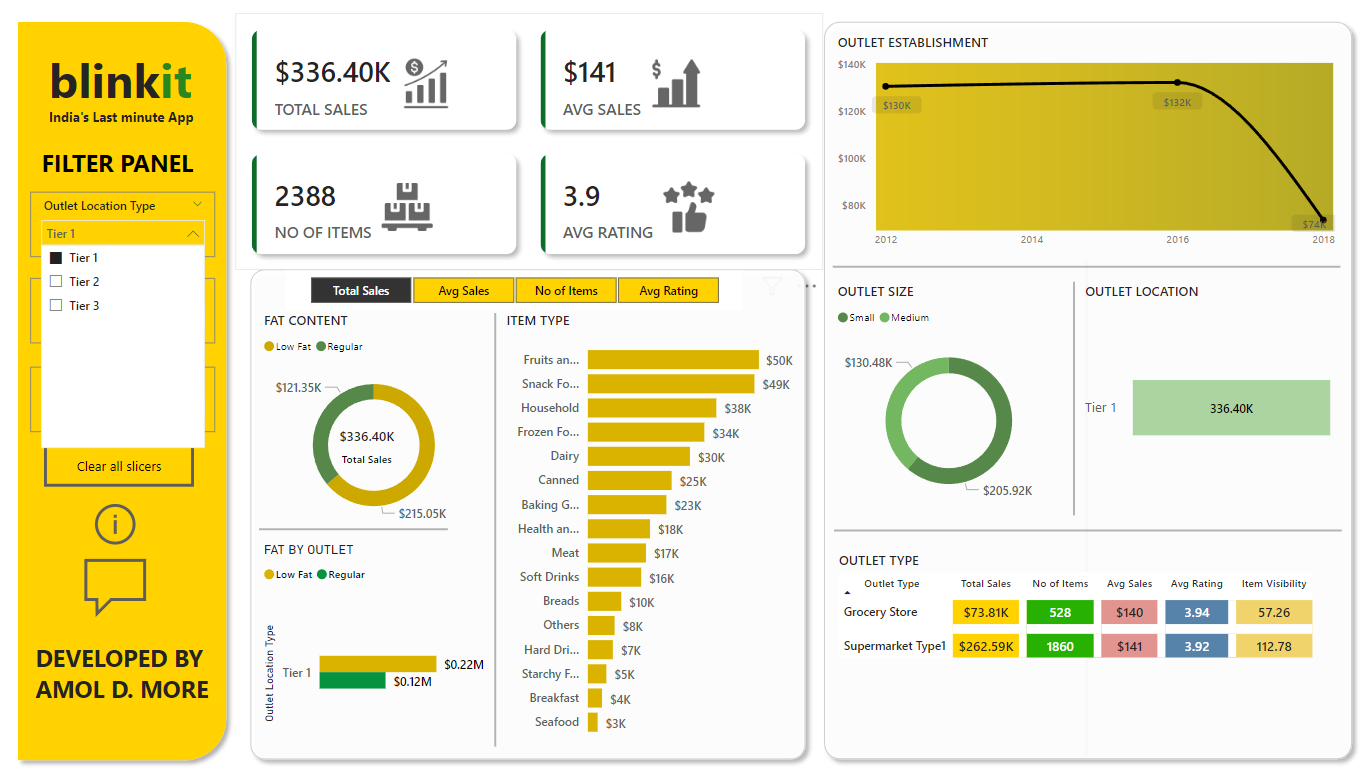

The dashboard page shown, as its layout file describes it:
{"tool":"powerbi","page":{"name":"Page 1","canvas":[1400,800],"ordinal":0},"visuals":[{"type":"shape","box":[10.2,15.3,230,768.9],"z":0},{"type":"textbox","box":[46.2,45,181.2,78.8],"z":1000},{"type":"textbox","box":[46.2,106.2,170,31.2],"z":2000},{"type":"cardVisual","fields":{"Data":["BlinkIT Grocery Data.Total Sales","BlinkIT Grocery Data.Avg Sales","BlinkIT Grocery Data.No of Items","BlinkIT Grocery Data.Avg Rating"]},"box":[240,15,597.5,262.5],"z":3000},{"type":"shape","box":[246.2,267.5,582.5,516.2],"z":4000},{"type":"donutChart","title":"FAT CONTENT","fields":{"Y":["BlinkIT Grocery Data.No of Items"],"Category":["BlinkIT Grocery Data.Item Fat Content"]},"box":[264.3,317.7,233.8,228.8],"z":5000},{"type":"slicer","fields":{"Values":["Metrics.Metrics"]},"box":[291.2,277.5,465,40],"z":6000},{"type":"cardVisual","fields":{"Data":["BlinkIT Grocery Data.No of Items"]},"box":[316.2,420,115,67.5],"z":7000},{"type":"clusteredBarChart","title":"FAT BY OUTLET","fields":{"Y":["BlinkIT Grocery Data.No of Items"],"Category":["BlinkIT Grocery Data.Outlet Location Type"],"Series":["BlinkIT Grocery Data.Item Fat Content"]},"box":[264.3,552.8,233.8,217.3],"z":8000},{"type":"shape","box":[264.3,533.8,191.9,12.7],"z":9000},{"type":"shape","box":[1093,266.9,25.4,503.3],"z":10000},{"type":"barChart","title":"ITEM TYPE","fields":{"Y":["BlinkIT Grocery Data.No of Items"],"Category":["BlinkIT Grocery Data.Item Type"]},"box":[510.9,317.7,301.2,443.5],"z":11000},{"type":"shape","box":[829.3,15,554.8,767.8],"z":12000},{"type":"lineChart","title":"OUTLET ESTABLISHMENT","fields":{"Y":["BlinkIT Grocery Data.Total Sales"],"Category":["BlinkIT Grocery Data.Outlet Establishment Year"]},"box":[847.7,35.6,516,227.5],"z":13000},{"type":"shape","box":[849,535,516,12.7],"z":14000},{"type":"donutChart","title":"OUTLET SIZE","fields":{"Y":["BlinkIT Grocery Data.Total Sales"],"Category":["BlinkIT Grocery Data.Outlet Size"]},"box":[847.7,288.5,236.4,237.7],"z":15000},{"type":"shape","box":[498.2,320.3,12.7,441],"z":16000},{"type":"shape","box":[1086.6,288.5,12.7,237.7],"z":17000},{"type":"funnel","title":"OUTLET LOCATION","fields":{"Category":["BlinkIT Grocery Data.Outlet Location Type"],"Y":["Sum(BlinkIT Grocery Data.Sales)"]},"box":[1099.3,288.5,264.3,237.7],"z":18000},{"type":"shape","box":[847.7,266.9,516,12.7],"z":19000},{"type":"pivotTable","title":"OUTLET TYPE","fields":{"Rows":["BlinkIT Grocery Data.Outlet Type"],"Values":["BlinkIT Grocery Data.Total Sales","BlinkIT Grocery Data.No of Items","BlinkIT Grocery Data.Avg Sales","BlinkIT Grocery Data.Avg Rating","Sum(BlinkIT Grocery Data.Item Visibility)"]},"box":[849,561.7,516,199.5],"z":20000},{"type":"slicer","fields":{"Values":["BlinkIT Grocery Data.Outlet Location Type"]},"box":[31.8,197,188.1,66.1],"z":21000},{"type":"slicer","fields":{"Values":["BlinkIT Grocery Data.Outlet Size"]},"box":[31.8,284.7,188.1,66.1],"z":22000},{"type":"slicer","fields":{"Values":["BlinkIT Grocery Data.Item Type"]},"box":[31.8,374.9,188.1,66.1],"z":23000},{"type":"textbox","box":[38.1,146.2,184.3,50.8],"z":24000},{"type":"actionButton","box":[45.8,453.7,152.5,43.2],"z":25000},{"type":"actionButton","box":[80.1,561.7,92.8,76.3],"z":26000},{"type":"actionButton","box":[91.5,508.4,63.5,53.4],"z":27000},{"type":"textbox","box":[31.8,649.4,198.3,86.4],"z":28000}]}

Visuals, with their boxes in screenshot pixels (x1, y1, x2, y2), scaled from the page's 1400x800 canvas onto the 1372x783 screenshot:
shape: (10, 15, 235, 768)
textbox: (45, 44, 223, 121)
textbox: (45, 104, 212, 134)
cardVisual - BlinkIT Grocery Data.Total Sales x BlinkIT Grocery Data.Avg Sales: (235, 15, 821, 272)
shape: (241, 262, 812, 767)
"FAT CONTENT" donutChart: (259, 311, 488, 535)
slicer - Metrics.Metrics: (285, 272, 741, 311)
cardVisual - BlinkIT Grocery Data.No of Items: (310, 411, 423, 477)
"FAT BY OUTLET" clusteredBarChart: (259, 541, 488, 754)
shape: (259, 522, 447, 535)
shape: (1071, 261, 1096, 754)
"ITEM TYPE" barChart: (501, 311, 796, 745)
shape: (813, 15, 1356, 766)
"OUTLET ESTABLISHMENT" lineChart: (831, 35, 1336, 258)
shape: (832, 524, 1338, 536)
"OUTLET SIZE" donutChart: (831, 282, 1062, 515)
shape: (488, 313, 501, 745)
shape: (1065, 282, 1077, 515)
"OUTLET LOCATION" funnel: (1077, 282, 1336, 515)
shape: (831, 261, 1336, 274)
"OUTLET TYPE" pivotTable: (832, 550, 1338, 745)
slicer - BlinkIT Grocery Data.Outlet Location Type: (31, 193, 216, 258)
slicer - BlinkIT Grocery Data.Outlet Size: (31, 279, 216, 343)
slicer - BlinkIT Grocery Data.Item Type: (31, 367, 216, 432)
textbox: (37, 143, 218, 193)
actionButton: (45, 444, 194, 486)
actionButton: (78, 550, 169, 624)
actionButton: (90, 498, 152, 550)
textbox: (31, 636, 225, 720)
